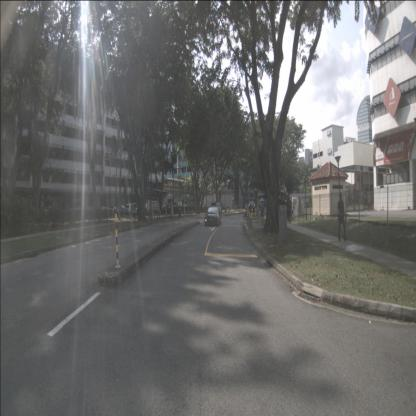human-pedestrian-adult: (337, 193, 348, 242), (248, 203, 252, 217), (253, 204, 255, 218)
vehicle-car: (204, 205, 223, 227), (120, 203, 138, 216)
vehicle-motorcycle: (242, 202, 256, 221)
